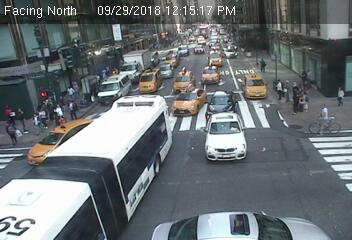car: (1, 97, 171, 238), (149, 209, 335, 240), (25, 120, 90, 159), (206, 115, 250, 161), (117, 48, 153, 83), (96, 74, 131, 104), (174, 89, 203, 115), (207, 91, 239, 114), (240, 75, 268, 98), (139, 68, 160, 94), (173, 67, 196, 89), (202, 65, 221, 86), (207, 50, 223, 66), (164, 51, 181, 66), (158, 62, 173, 78), (176, 43, 191, 56), (221, 46, 237, 58), (226, 42, 239, 52), (194, 44, 205, 55)
